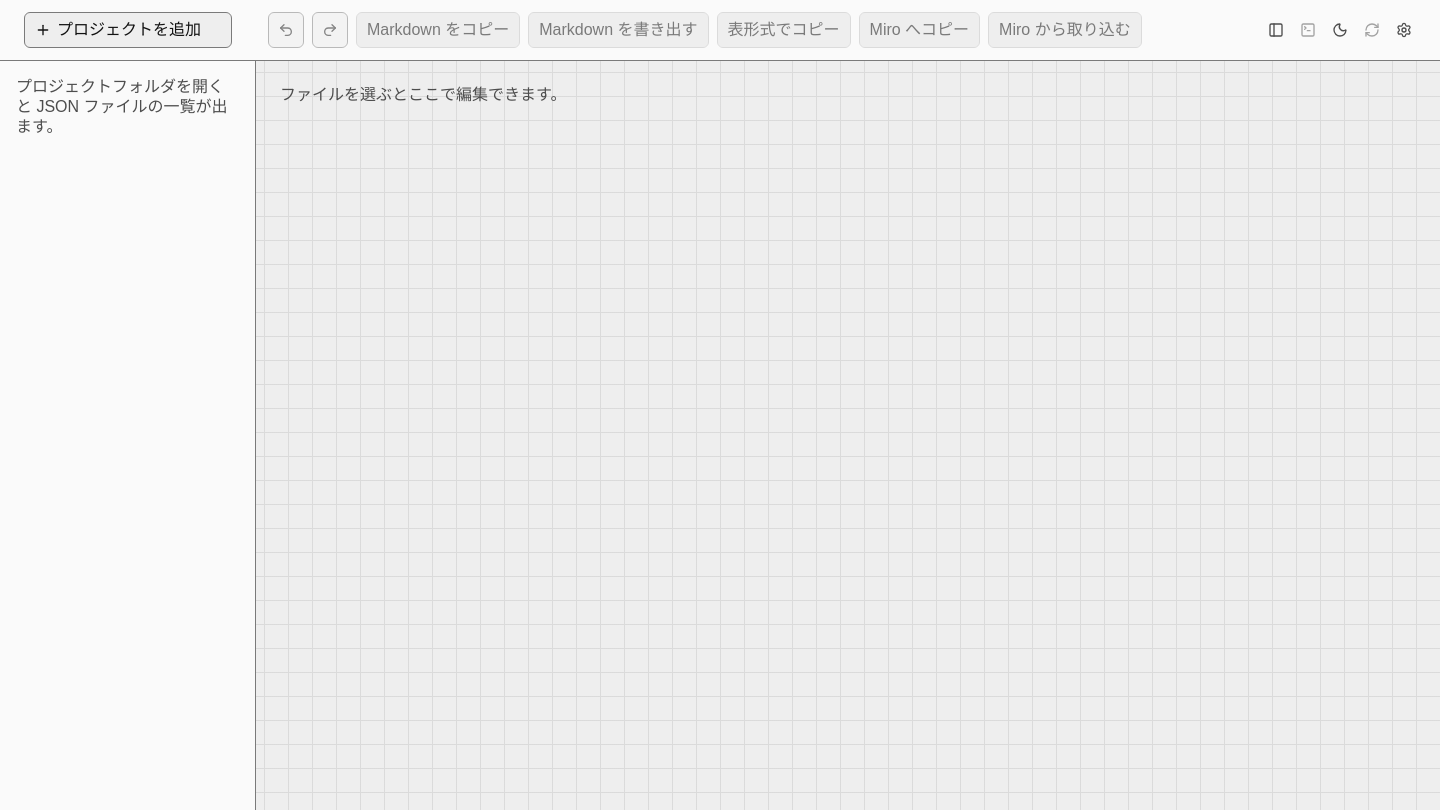
フォルダ切替 › **終了済みのタブしか無くてもフォルダ切替で消える**（確認は出ない）
The width and height of the screenshot is (1440, 810).
Click the button "プロジェクトを追加" at coordinates (128, 30), box [24,12,232,48]
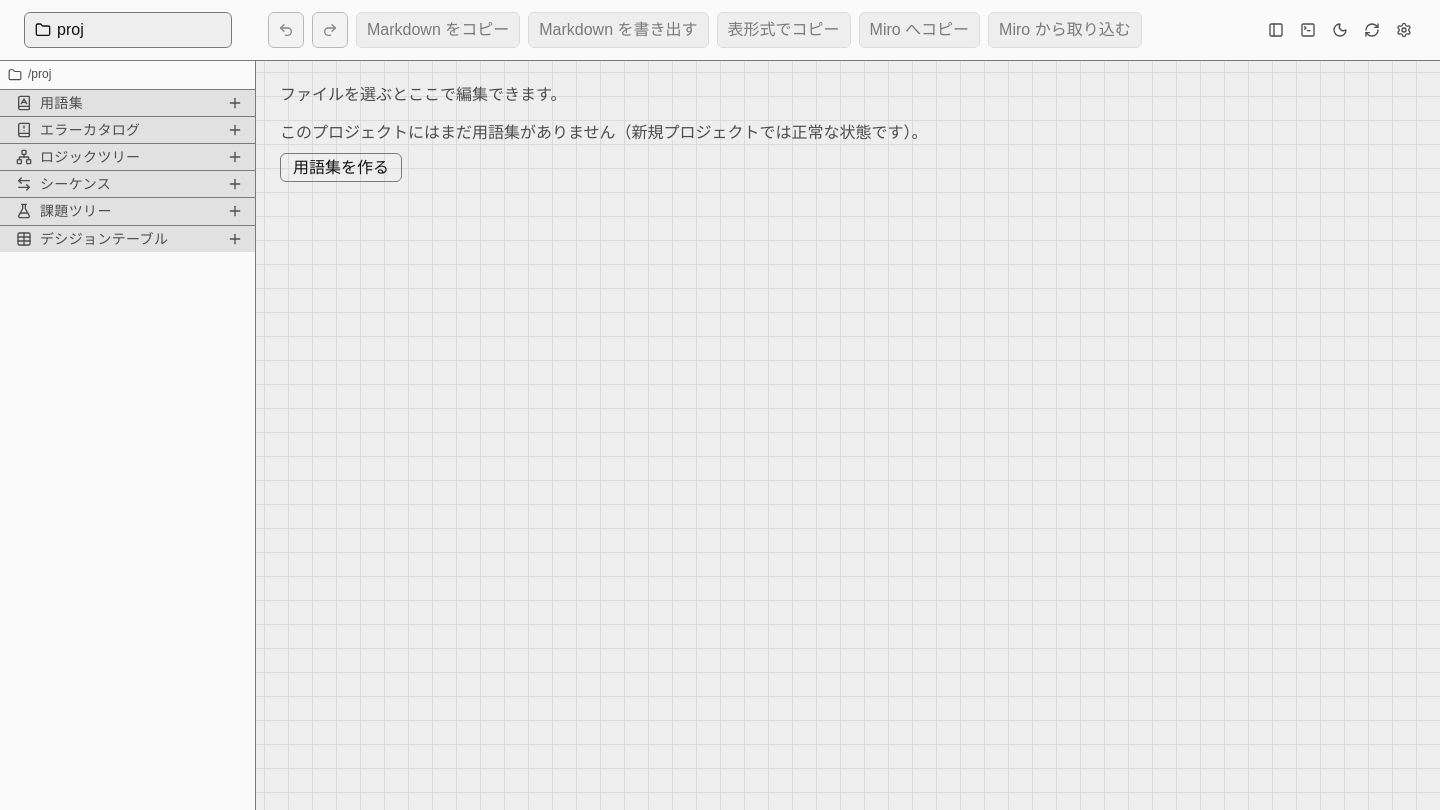
Expected: the button named "Claude Code ペインを開く" is enabled
Click the button named "Claude Code ペインを開く" at coordinates (1308, 30), box [1296,18,1320,42]
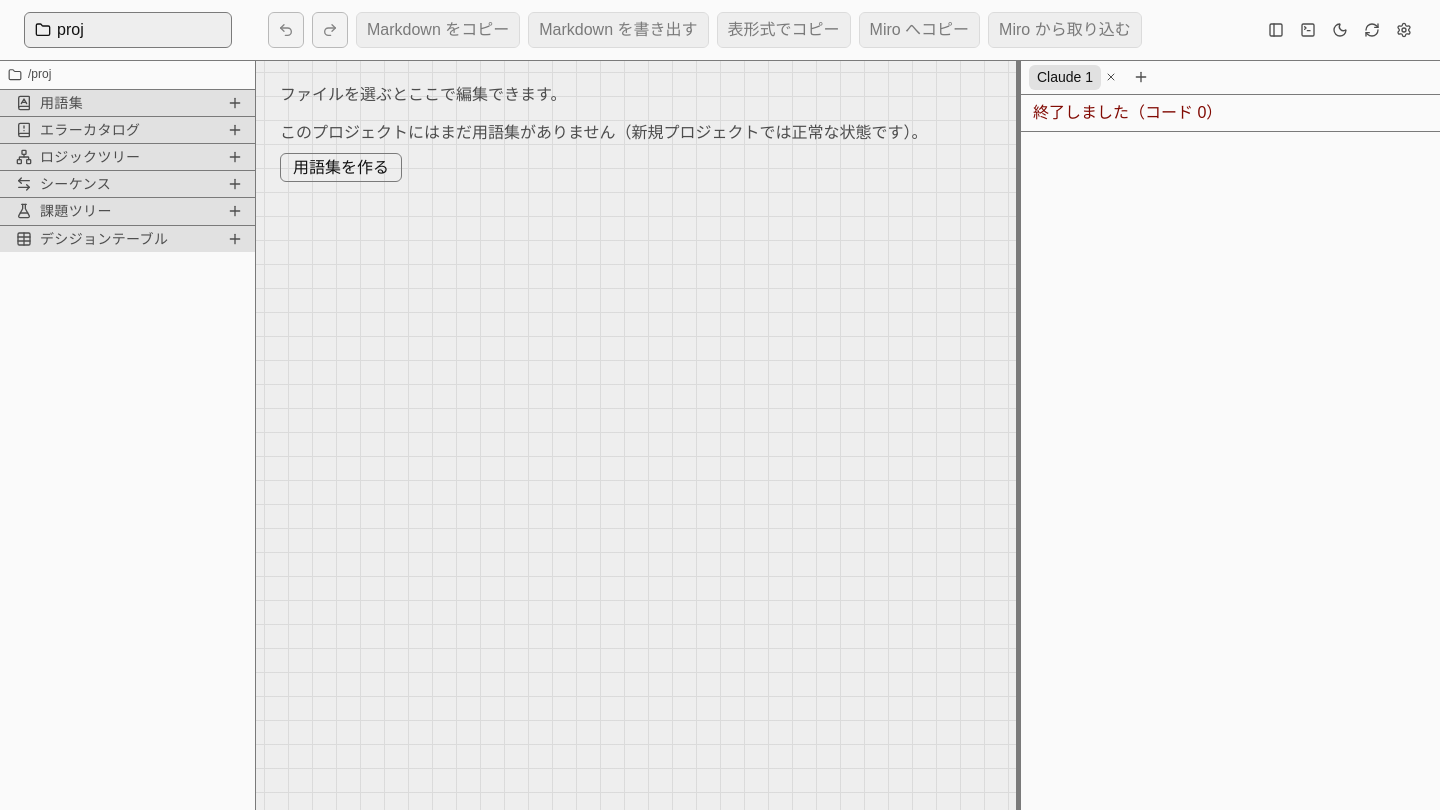
Expected: the button "Claude 1" is shown, [1029,65,1101,90]
Expected: the text "終了しました（コード 0）" is shown, [1021,95,1439,132]
Press the mouse on the button "proj" at coordinates (128, 30), box [24,12,232,48]
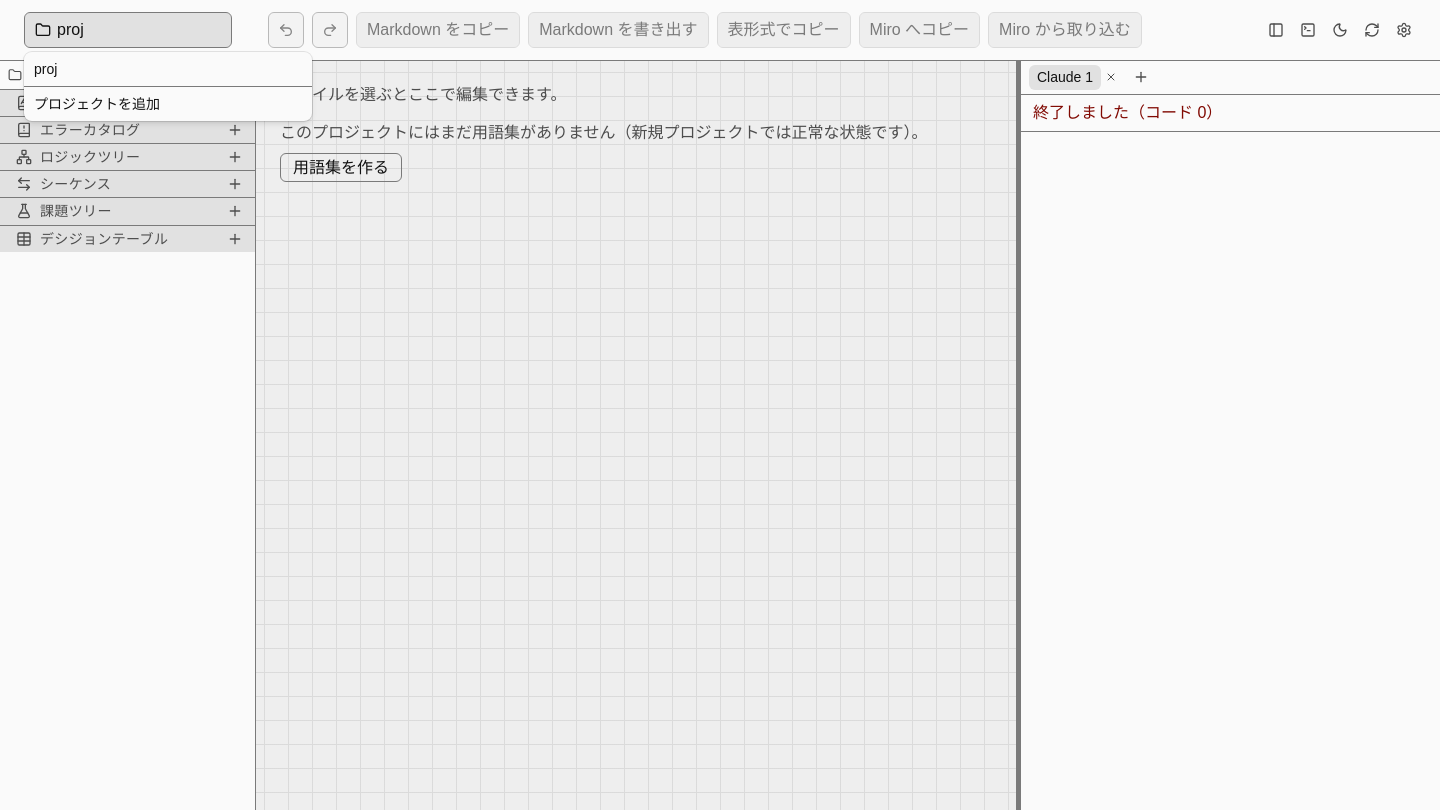
Click the menu item "プロジェクトを追加" at coordinates (97, 104), box [34,96,160,112]
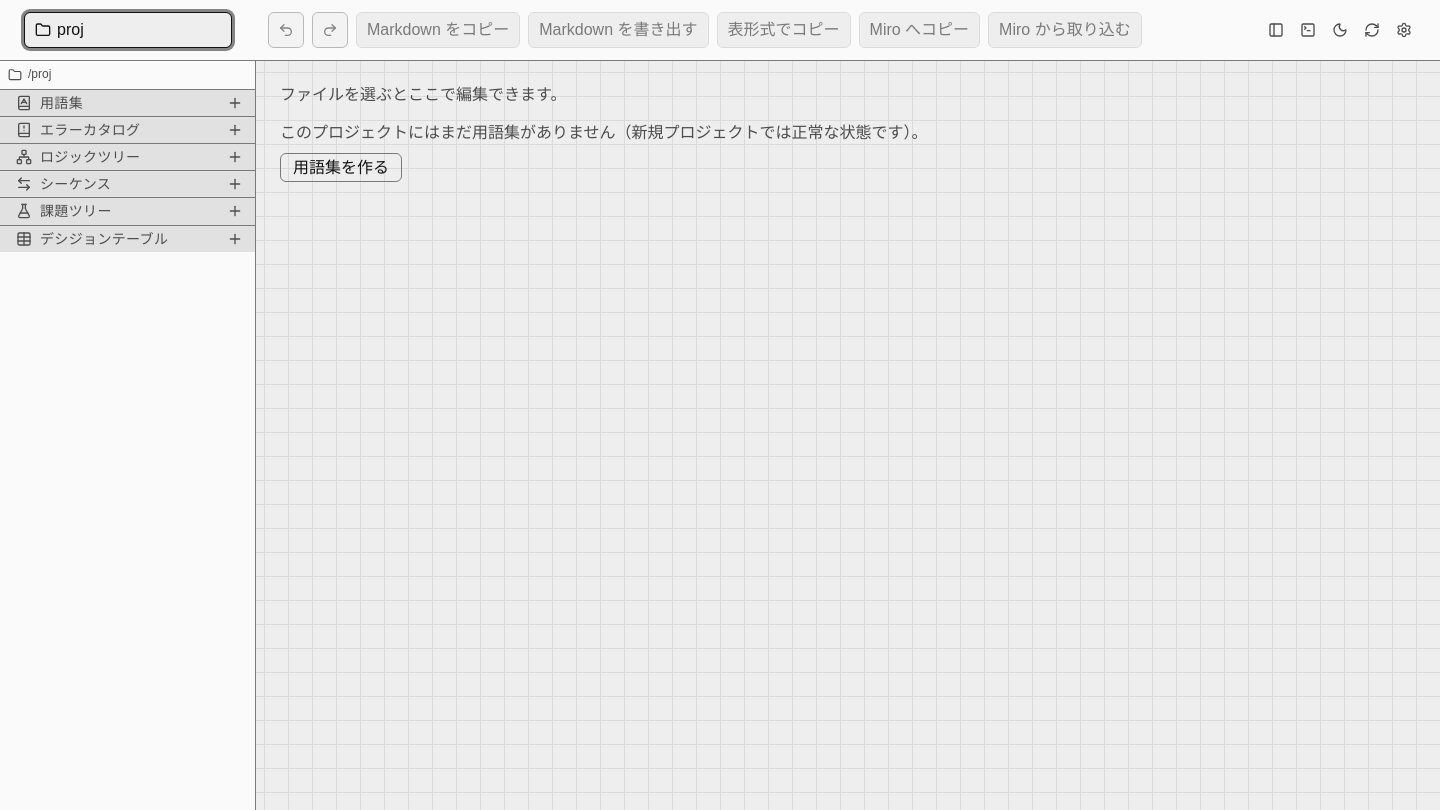
Expected: the button "Claude 1" is gone
